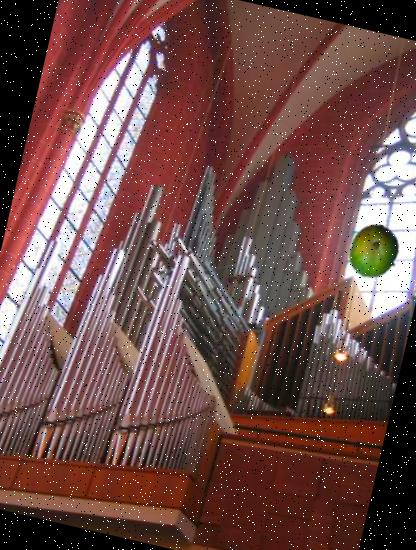Mango: (341, 218, 408, 286)
